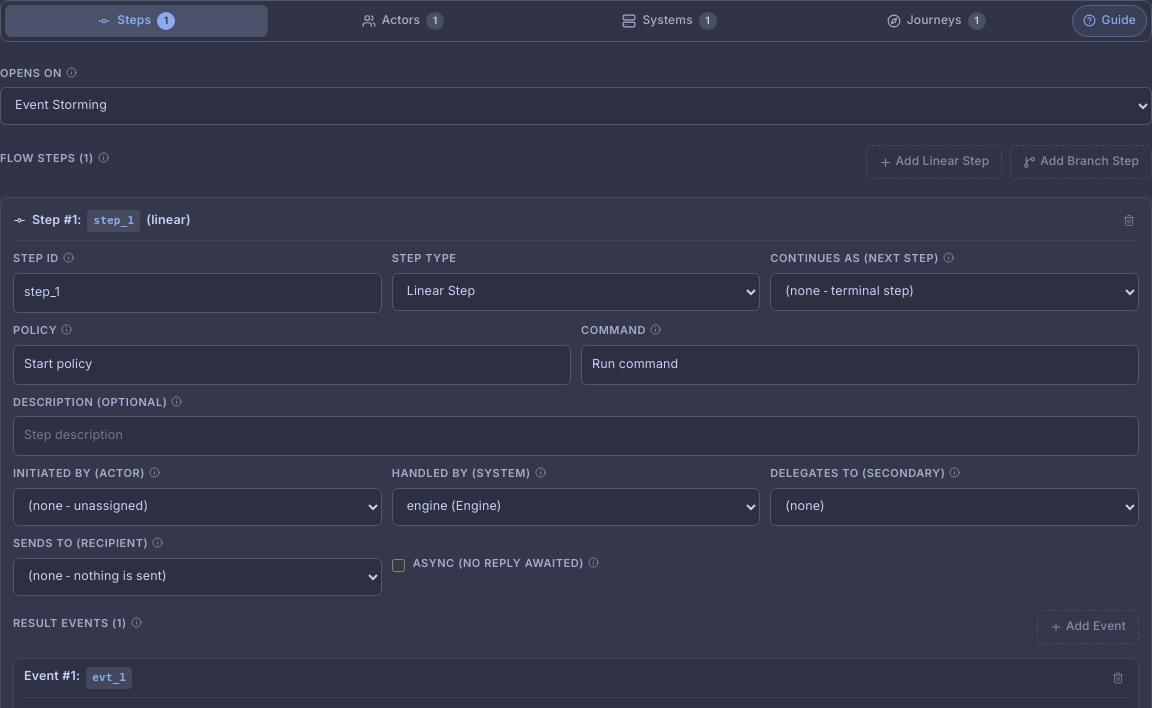
it: VisualFormEditor › renders flowchart form editor with sub-tabs for flowchart type
Expected: the element with test id "flowchart-sub-tabs" is shown, [0,0,1151,42]
Switch sub-tabs
Click the button with test id "flowchart-tab-actors" at (403, 21), box [272,5,534,36]
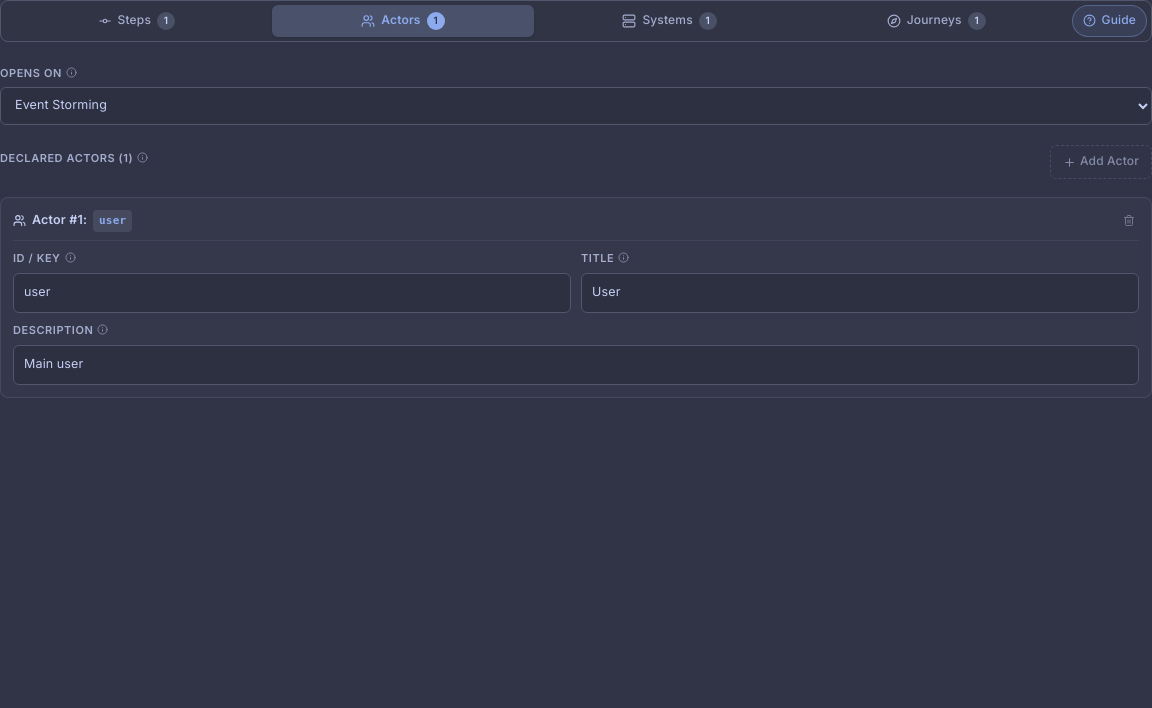
Expected: the element with test id "flowchart-content-actors" is shown, [0,141,1151,398]
Expected: the element with test id "flowchart-actor-user" is shown, [0,197,1151,398]
Click the button with test id "flowchart-tab-systems" at (670, 21), box [538,5,801,36]
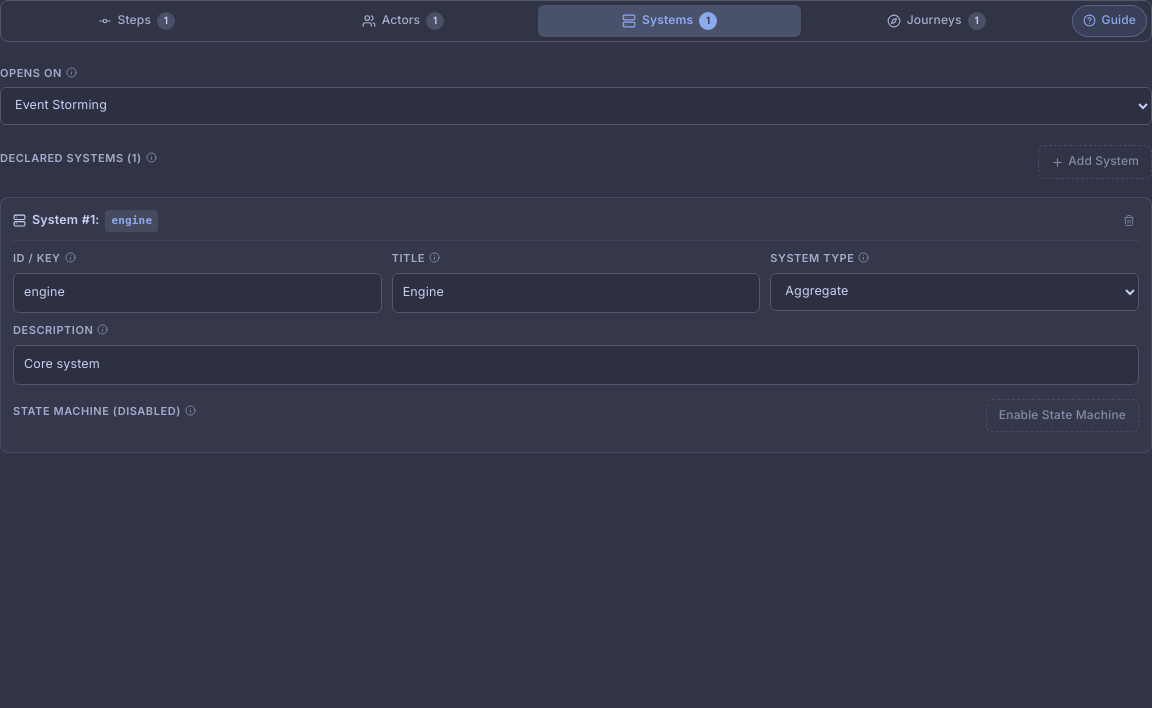
Expected: the element with test id "flowchart-content-systems" is shown, [0,141,1151,453]
Expected: the element with test id "flowchart-system-engine" is shown, [0,197,1151,453]
Click the button with test id "flowchart-tab-journeys" at (936, 21), box [805,5,1068,36]
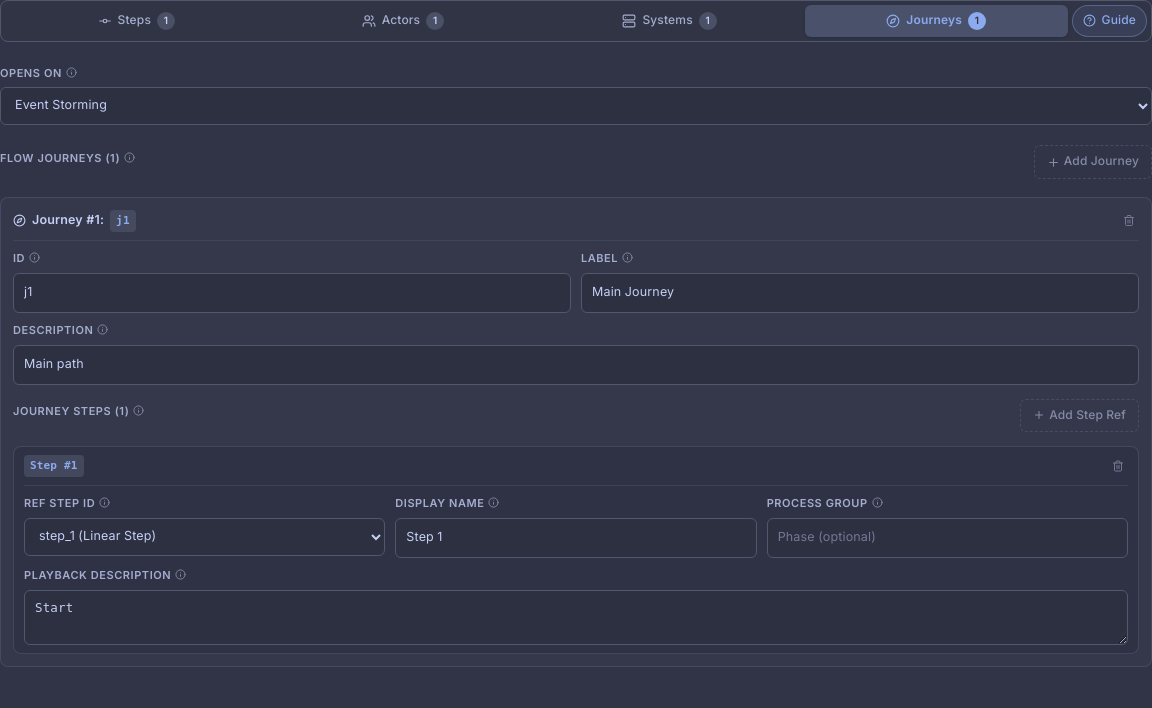
Expected: the element with test id "flowchart-content-journeys" is shown
Expected: the element with test id "flowchart-journey-0" is shown
